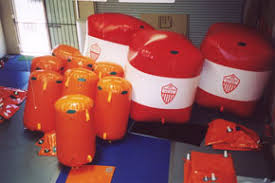buoy: (54, 95, 98, 166), (97, 75, 130, 145), (66, 69, 97, 141), (29, 72, 59, 132)
